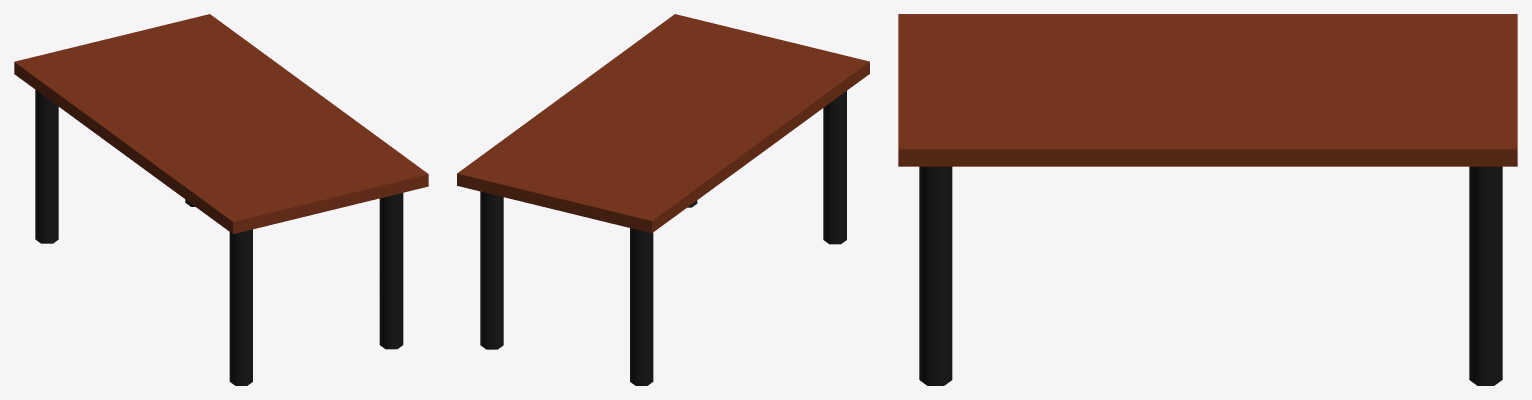
Rendered from Mesa.fbx.
The picture shows the model from 3 angles, left to right: view 1: azimuth 30°, elevation 25°; view 2: azimuth 150°, elevation 25°; view 3: azimuth 270°, elevation 25°; orthographic projection. The views are drawn at different scales.
Parts seen in each view (by area): view 1: Cube; view 2: Cube; view 3: Cube.
Boxes of the visible parts, x1,y1,x2,y2 form: Cube: (14, 14, 428, 385); Cube: (457, 14, 869, 385); Cube: (898, 14, 1517, 385).
Bounding box in the file's own units: 200 × 171 × 387.
